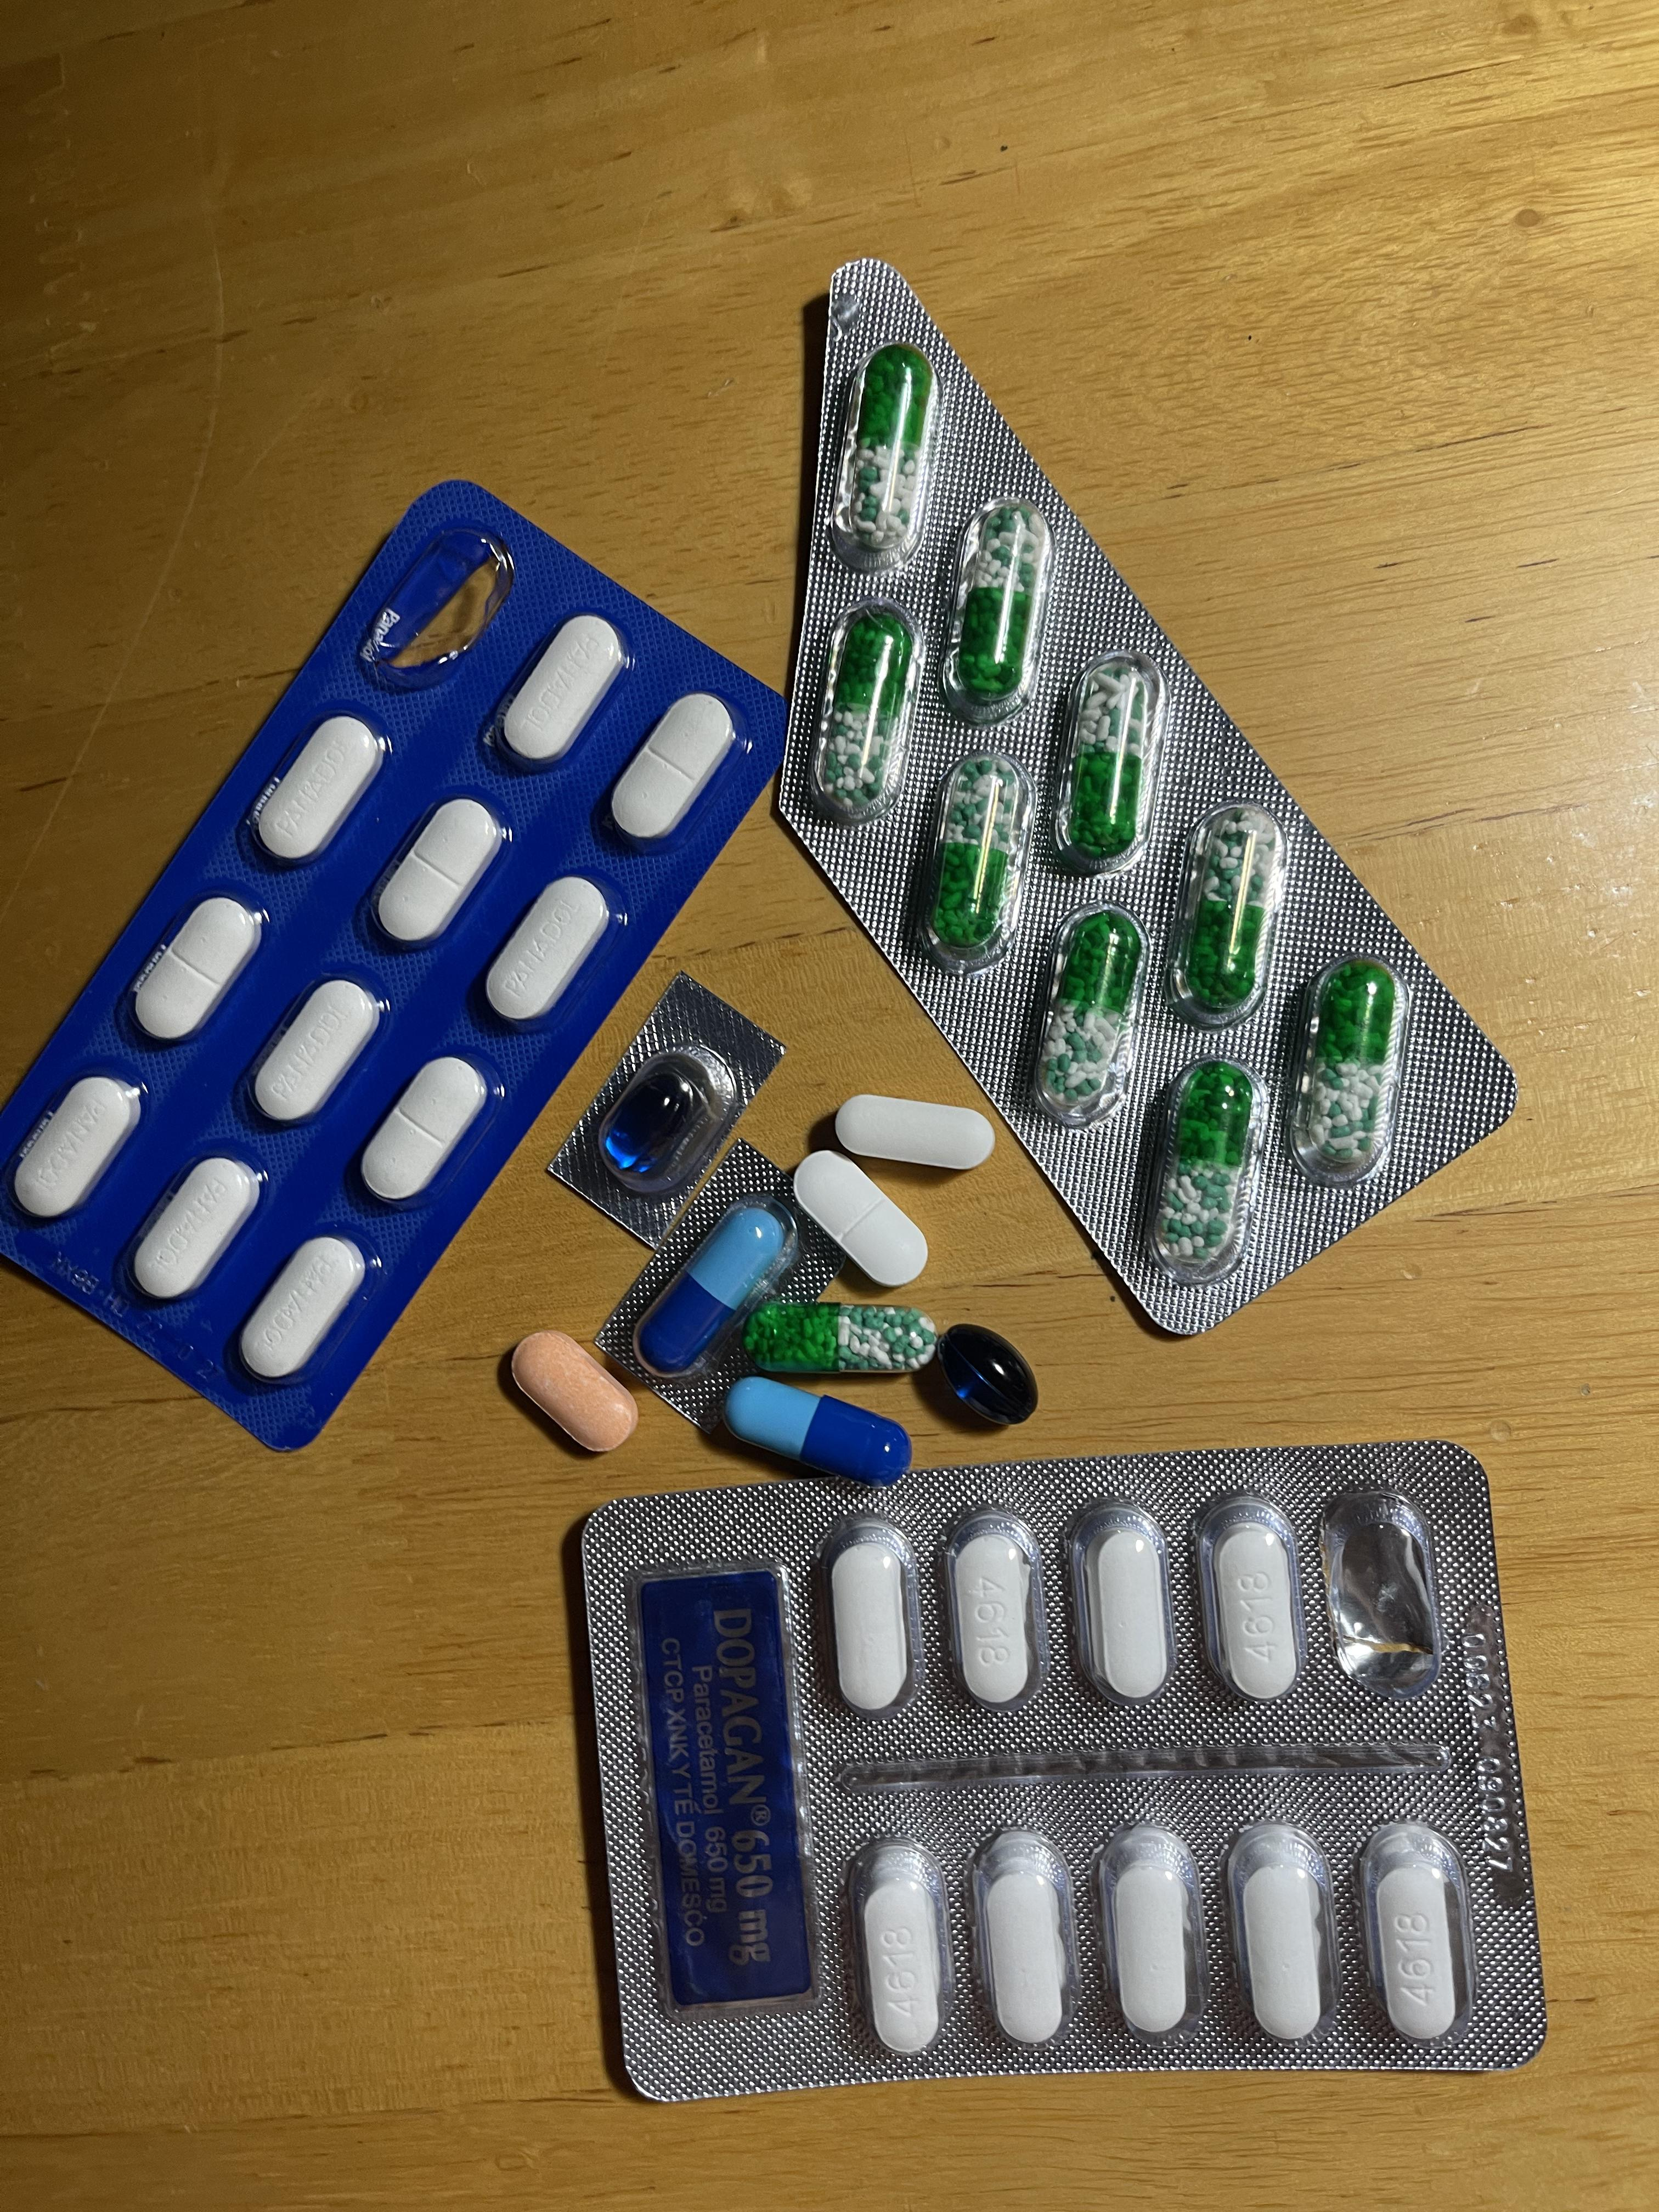Lincomyxin_500mg: (934, 1322, 1039, 1426), (602, 1070, 698, 1174)
Loratadine_10mg: (507, 1327, 644, 1451)
Paracetamol_350mg: (250, 714, 385, 870), (607, 690, 738, 850), (493, 613, 627, 769), (250, 973, 384, 1125), (483, 874, 614, 1026), (131, 1153, 263, 1303), (12, 1073, 144, 1222), (374, 797, 502, 949), (358, 1056, 488, 1204), (239, 1233, 368, 1381), (134, 893, 259, 1042), (799, 1150, 930, 1289)
Paracetamol_500mg: (1359, 1821, 1475, 2046), (1196, 1493, 1306, 1706), (849, 1837, 951, 2057), (940, 1507, 1041, 1709), (1243, 1863, 1323, 2039), (986, 1863, 1064, 2042), (1113, 1860, 1189, 2037), (832, 1544, 909, 1712), (836, 1094, 996, 1171), (1095, 1530, 1167, 1697)
Paracetamol_650mg: (1286, 954, 1408, 1184), (1143, 1057, 1265, 1280), (1030, 904, 1148, 1120), (1165, 805, 1280, 1024), (938, 502, 1053, 720), (828, 342, 938, 569), (917, 754, 1034, 967), (808, 602, 921, 823), (1054, 661, 1163, 871), (749, 1303, 929, 1375)
pill: (636, 1195, 791, 1380), (731, 1374, 910, 1474)
